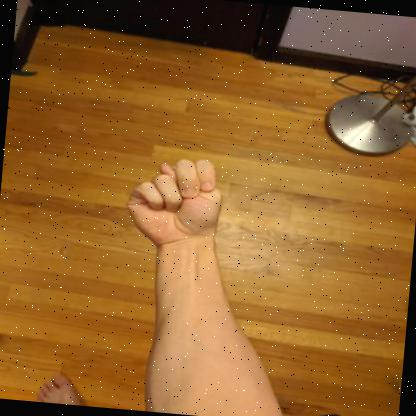N: (126, 159, 222, 254)
